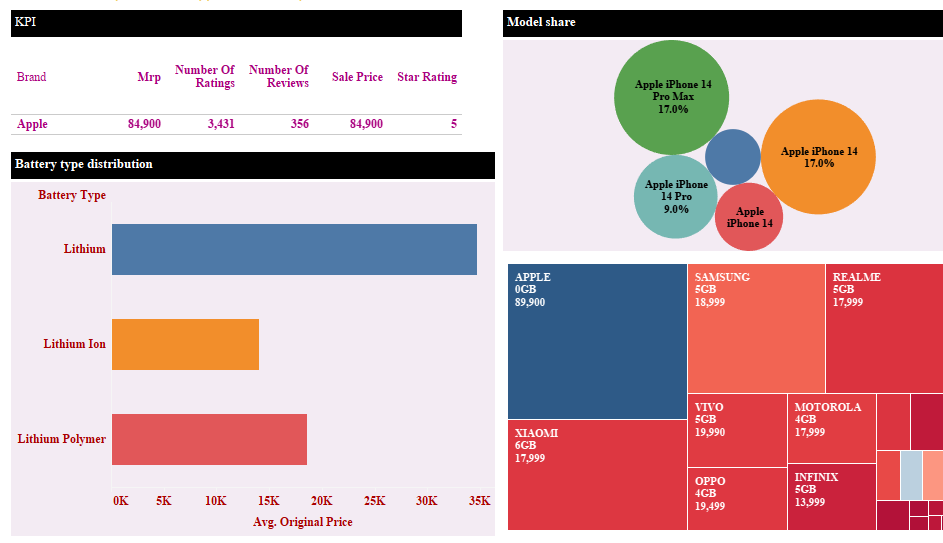

What the dashboard file says about the page in this screenshot:
{"tool":"tableau","page":{"name":"Dashboard 1","canvas":[1000,800],"ordinal":0},"visuals":[{"type":"title","box":[8,8,984,35]},{"type":"worksheet","title":"KPI","mark":"Automatic","rows":["Brand"],"box":[8,43,492,140.4]},{"type":"worksheet","title":"Model share","mark":"Circle","box":[500,43,492,246.5]},{"type":"worksheet","title":"Battery type","mark":"Automatic","rows":["battery_type"],"cols":["original_price"],"box":[8,183.4,492,386.9]},{"type":"worksheet","title":"Brand Price comparison","mark":"Automatic","box":[500,289.5,492,280.9]},{"type":"worksheet","title":"Model specification","mark":"Automatic","rows":["model","processor","front_camera","rear_camera","colour"],"box":[8,570.3,984,221.7]}]}

Visuals, with their boxes on the page's 1000x800 design canvas (x1, y1, x2, y2). These are canvas units, not pixel positions in the 943x543 screenshot, which may show the page scaled, cropped or inside an application window:
title: select_region(8, 8, 992, 43)
"KPI" worksheet: select_region(8, 43, 500, 183)
"Model share" worksheet (Circle marks): select_region(500, 43, 992, 290)
"Battery type" worksheet: select_region(8, 183, 500, 570)
"Brand Price comparison" worksheet: select_region(500, 290, 992, 570)
"Model specification" worksheet: select_region(8, 570, 992, 792)
